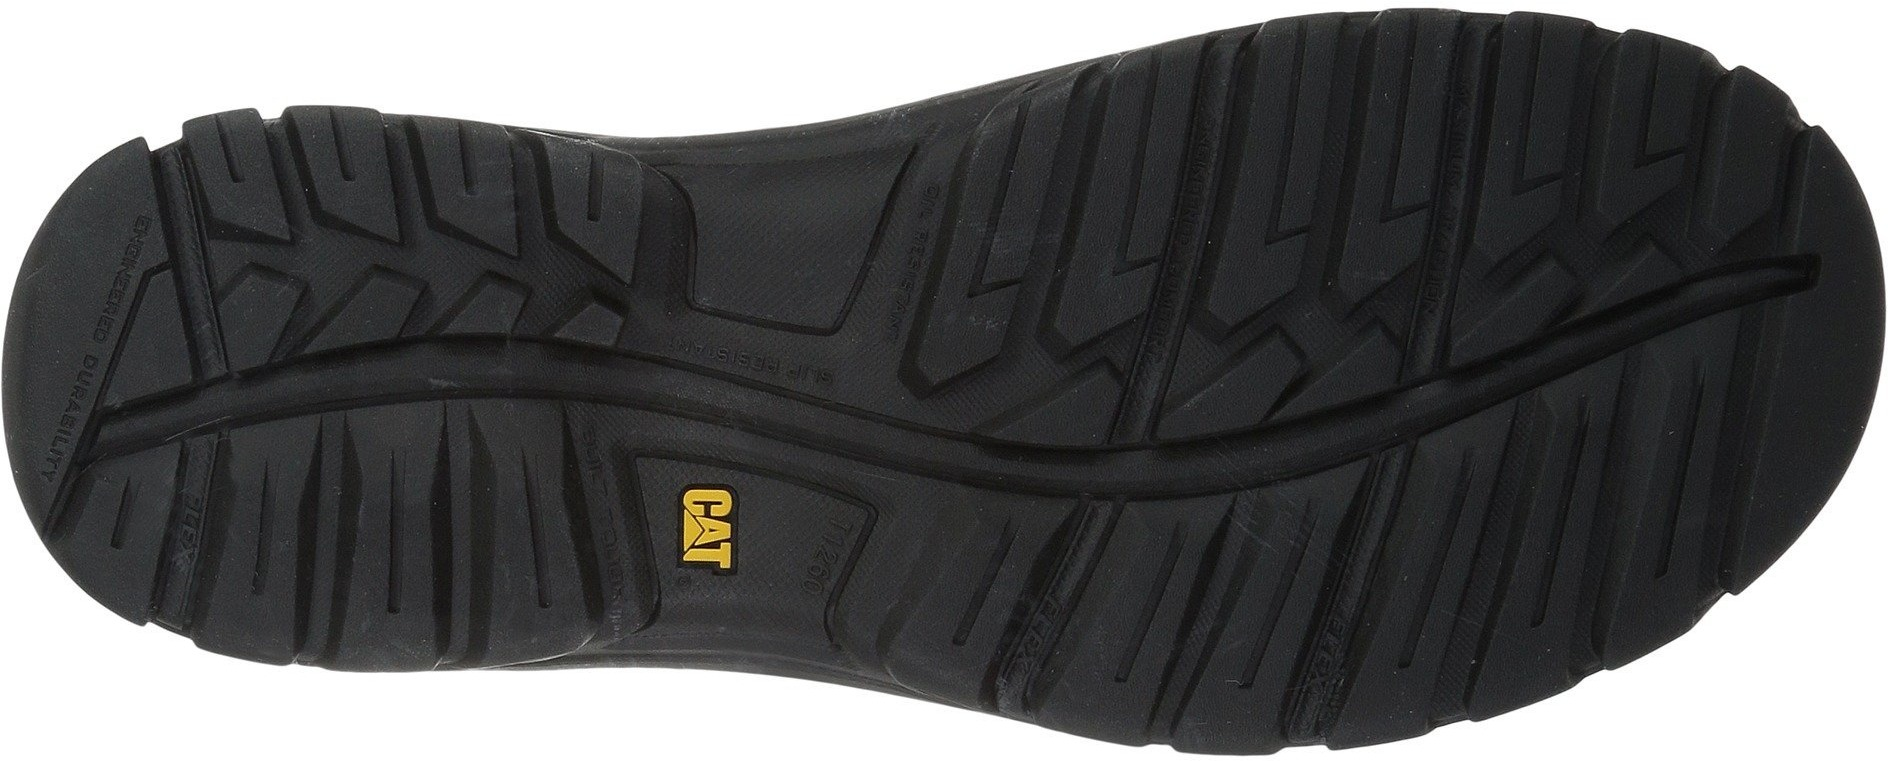other: (700, 170, 865, 314)
text: (669, 484, 749, 573), (47, 387, 98, 443), (84, 302, 128, 354)
